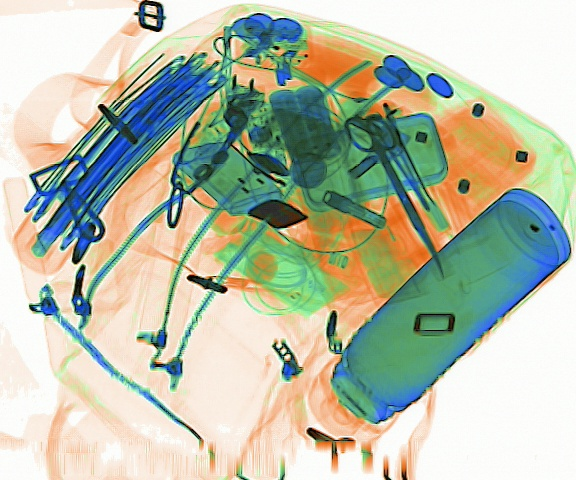powerbank: (259, 83, 339, 167)
scissors: (341, 112, 447, 280)
